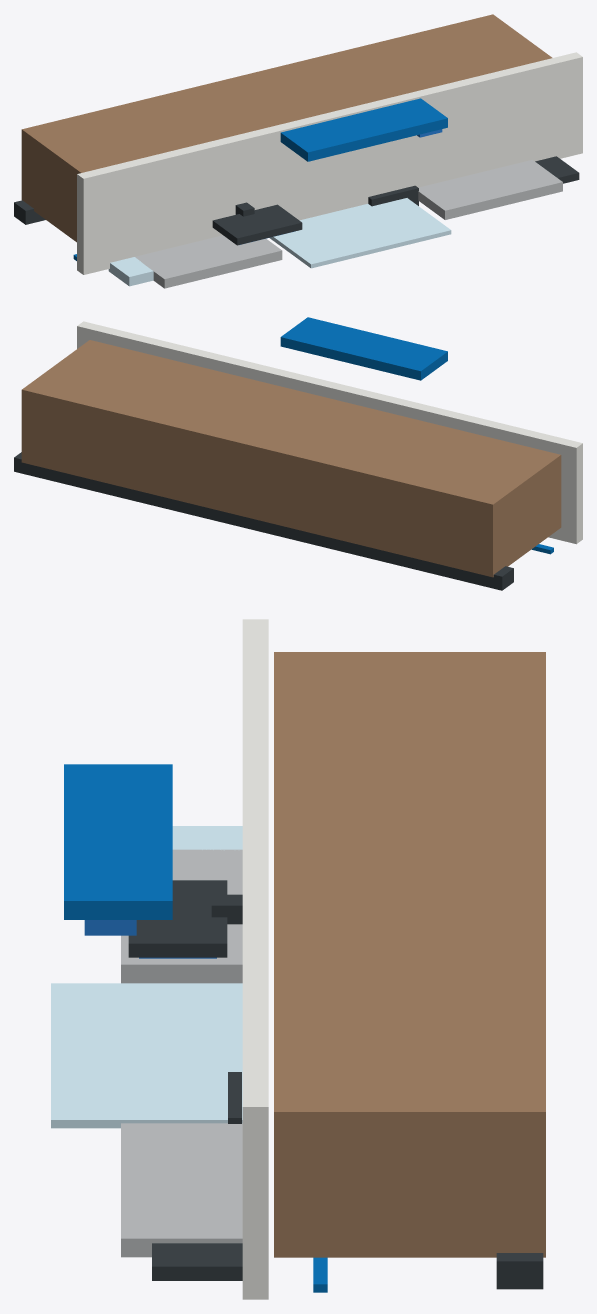
File: vr_bank_teller_desk_counter.glb
The picture shows the model from 3 angles, top to bottom: view 1: azimuth 30°, elevation 25°; view 2: azimuth 150°, elevation 25°; view 3: azimuth 270°, elevation 25°; orthographic projection. The views are drawn at different scales.
Parts seen in each view (by area): view 1: white_transaction_top, main_walnut_counter_body, center_glass_sneeze_guard, blue_wall_sign_reference_panel, right_metal_privacy_panel, left_metal_privacy_panel, teller_monitor_screen, counter_brochure_holder, fdic_style_notice_block, customer_signature_pad, dark_base_kickplate; view 2: main_walnut_counter_body, white_transaction_top, dark_base_kickplate, blue_wall_sign_reference_panel; view 3: main_walnut_counter_body, center_glass_sneeze_guard, white_transaction_top, blue_wall_sign_reference_panel, right_metal_privacy_panel, left_metal_privacy_panel, teller_monitor_screen, fdic_style_notice_block, dark_base_kickplate, counter_brochure_holder, monitor_stand, blue_octagon_logo_placeholder.
Boxes of the visible parts, x1=… form: white_transaction_top: x1=77, y1=52, x2=582, y2=274; main_walnut_counter_body: x1=21, y1=14, x2=552, y2=242; center_glass_sneeze_guard: x1=269, y1=198, x2=451, y2=268; blue_wall_sign_reference_panel: x1=280, y1=98, x2=447, y2=161; right_metal_privacy_panel: x1=418, y1=160, x2=562, y2=219; left_metal_privacy_panel: x1=135, y1=235, x2=282, y2=288; teller_monitor_screen: x1=212, y1=204, x2=302, y2=245; counter_brochure_holder: x1=108, y1=257, x2=153, y2=286; fdic_style_notice_block: x1=535, y1=156, x2=579, y2=183; customer_signature_pad: x1=368, y1=185, x2=418, y2=206; dark_base_kickplate: x1=14, y1=200, x2=45, y2=224; main_walnut_counter_body: x1=21, y1=340, x2=561, y2=577; white_transaction_top: x1=77, y1=321, x2=582, y2=544; dark_base_kickplate: x1=14, y1=452, x2=513, y2=590; blue_wall_sign_reference_panel: x1=280, y1=317, x2=447, y2=380; main_walnut_counter_body: x1=274, y1=652, x2=545, y2=1257; center_glass_sneeze_guard: x1=51, y1=983, x2=242, y2=1128; white_transaction_top: x1=242, y1=619, x2=268, y2=1299; blue_wall_sign_reference_panel: x1=64, y1=764, x2=172, y2=919; right_metal_privacy_panel: x1=121, y1=1123, x2=242, y2=1257; left_metal_privacy_panel: x1=121, y1=849, x2=242, y2=983; teller_monitor_screen: x1=128, y1=880, x2=227, y2=957; fdic_style_notice_block: x1=152, y1=1243, x2=242, y2=1280; dark_base_kickplate: x1=496, y1=1253, x2=543, y2=1289; counter_brochure_holder: x1=172, y1=826, x2=242, y2=850; monitor_stand: x1=211, y1=894, x2=242, y2=924; blue_octagon_logo_placeholder: x1=84, y1=920, x2=136, y2=935.
Size of the model in its own units: 4.45 by 1.12 by 1.91.
